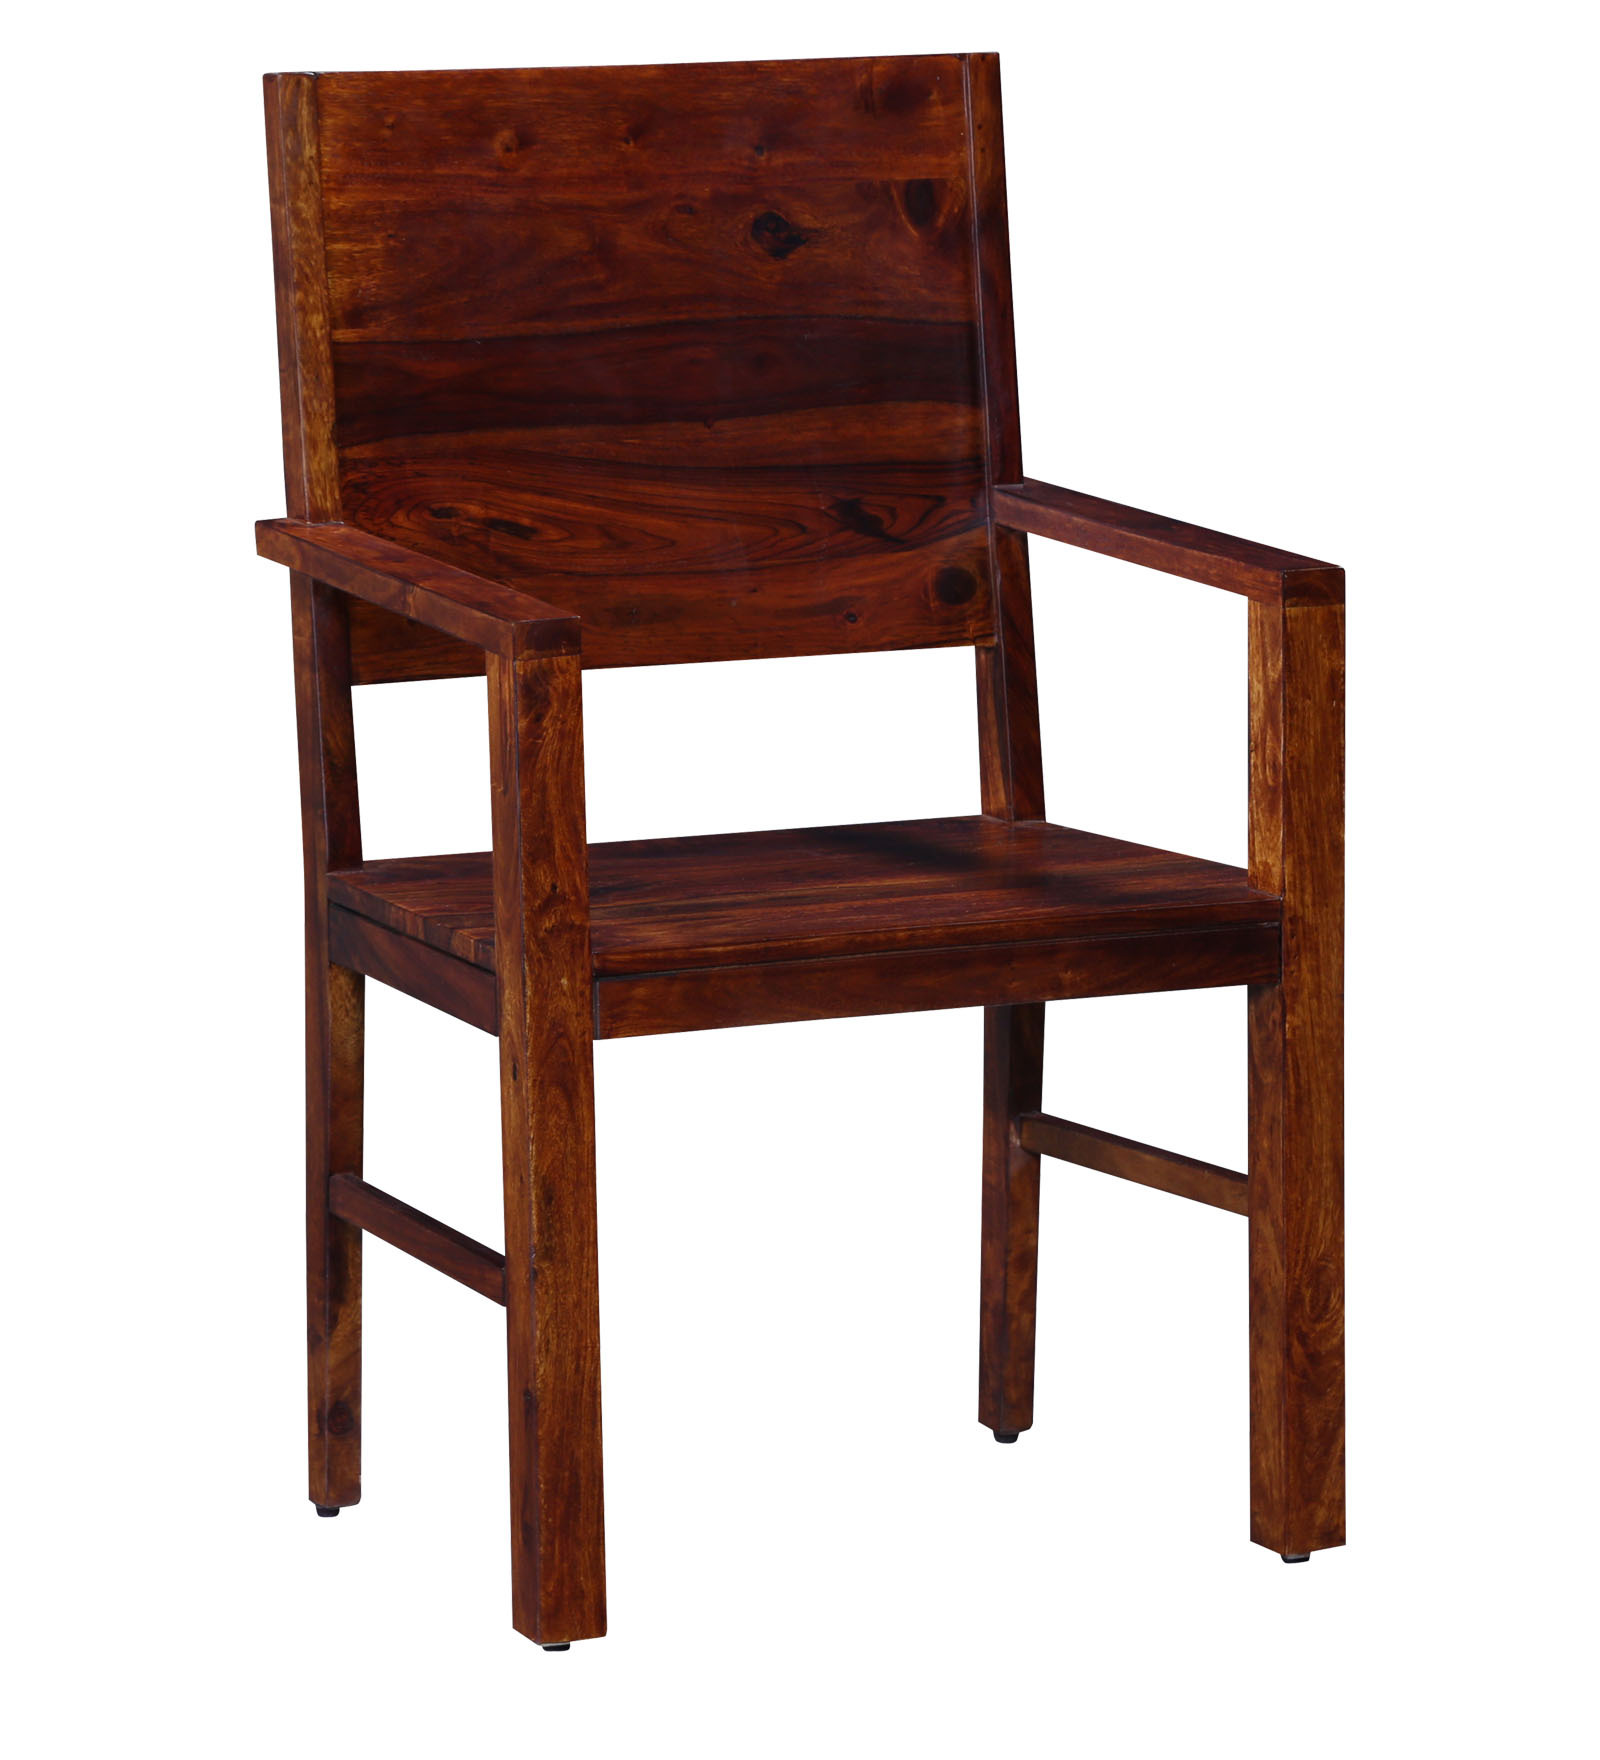Oriel Arm Chair in Honey oak Finish by Woodsworth: (254, 43, 1356, 1650)
